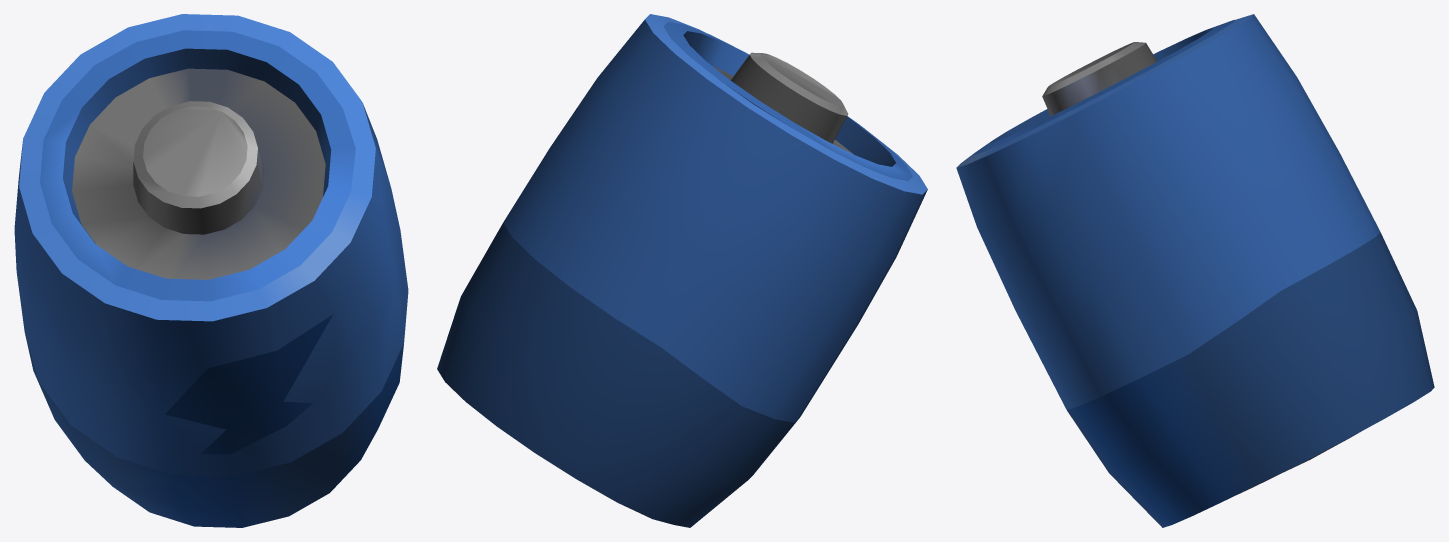
File: 04Battery.fbx
3 views of the same model, side by side, from view 1: azimuth 30°, elevation 25°; view 2: azimuth 150°, elevation 25°; view 3: azimuth 270°, elevation 25° (orthographic). The views are drawn at different scales.
Visible parts, largest first — view 1: Battery; view 2: Battery; view 3: Battery.
Boxes of the visible parts, x1,y1,x2,y2 form: Battery: (14,14,408,527); Battery: (437,14,927,527); Battery: (956,14,1434,527).
Size of the model in its own units: 1.1 by 1.19 by 1.3.
